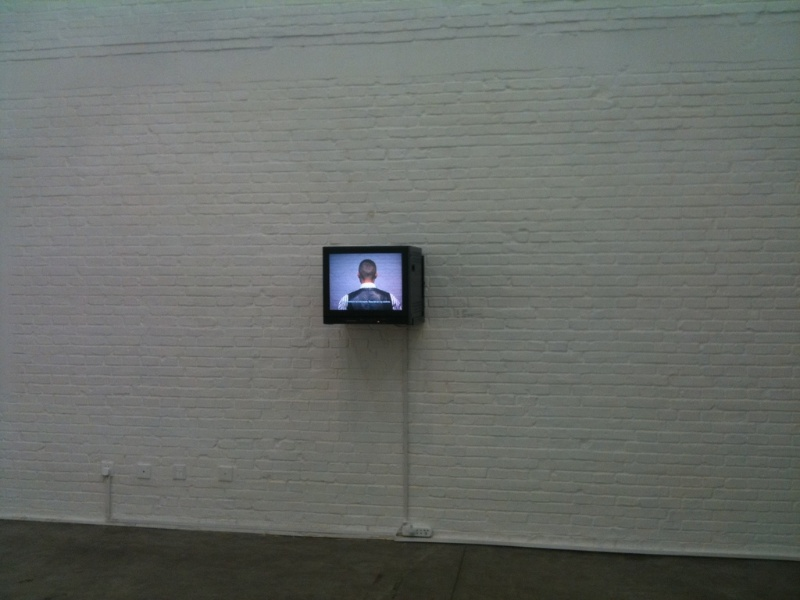tv: (319, 243, 428, 333)
